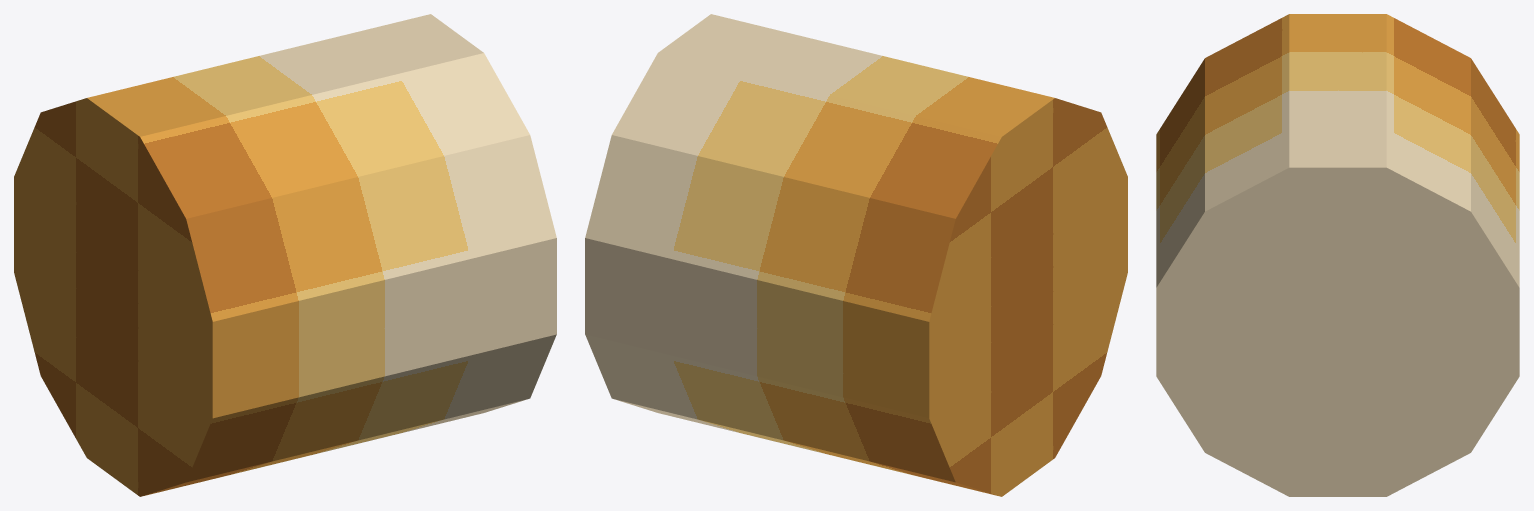
Rendered from bulb.gltf.
The picture shows the model from 3 angles, left to right: view 1: azimuth 30°, elevation 25°; view 2: azimuth 150°, elevation 25°; view 3: azimuth 270°, elevation 25°; orthographic projection. The views are drawn at different scales.
Parts seen in each view (by area): view 1: cylinder; view 2: cylinder; view 3: cylinder.
Part boxes in pixels (x1,y1,x2,y2): cylinder: [14, 14, 556, 496]; cylinder: [585, 14, 1127, 496]; cylinder: [1156, 14, 1519, 496].
Bounding box in the file's own units: 0.25 × 0.25 × 0.25.
Materials: 1 (1 with a texture image).
